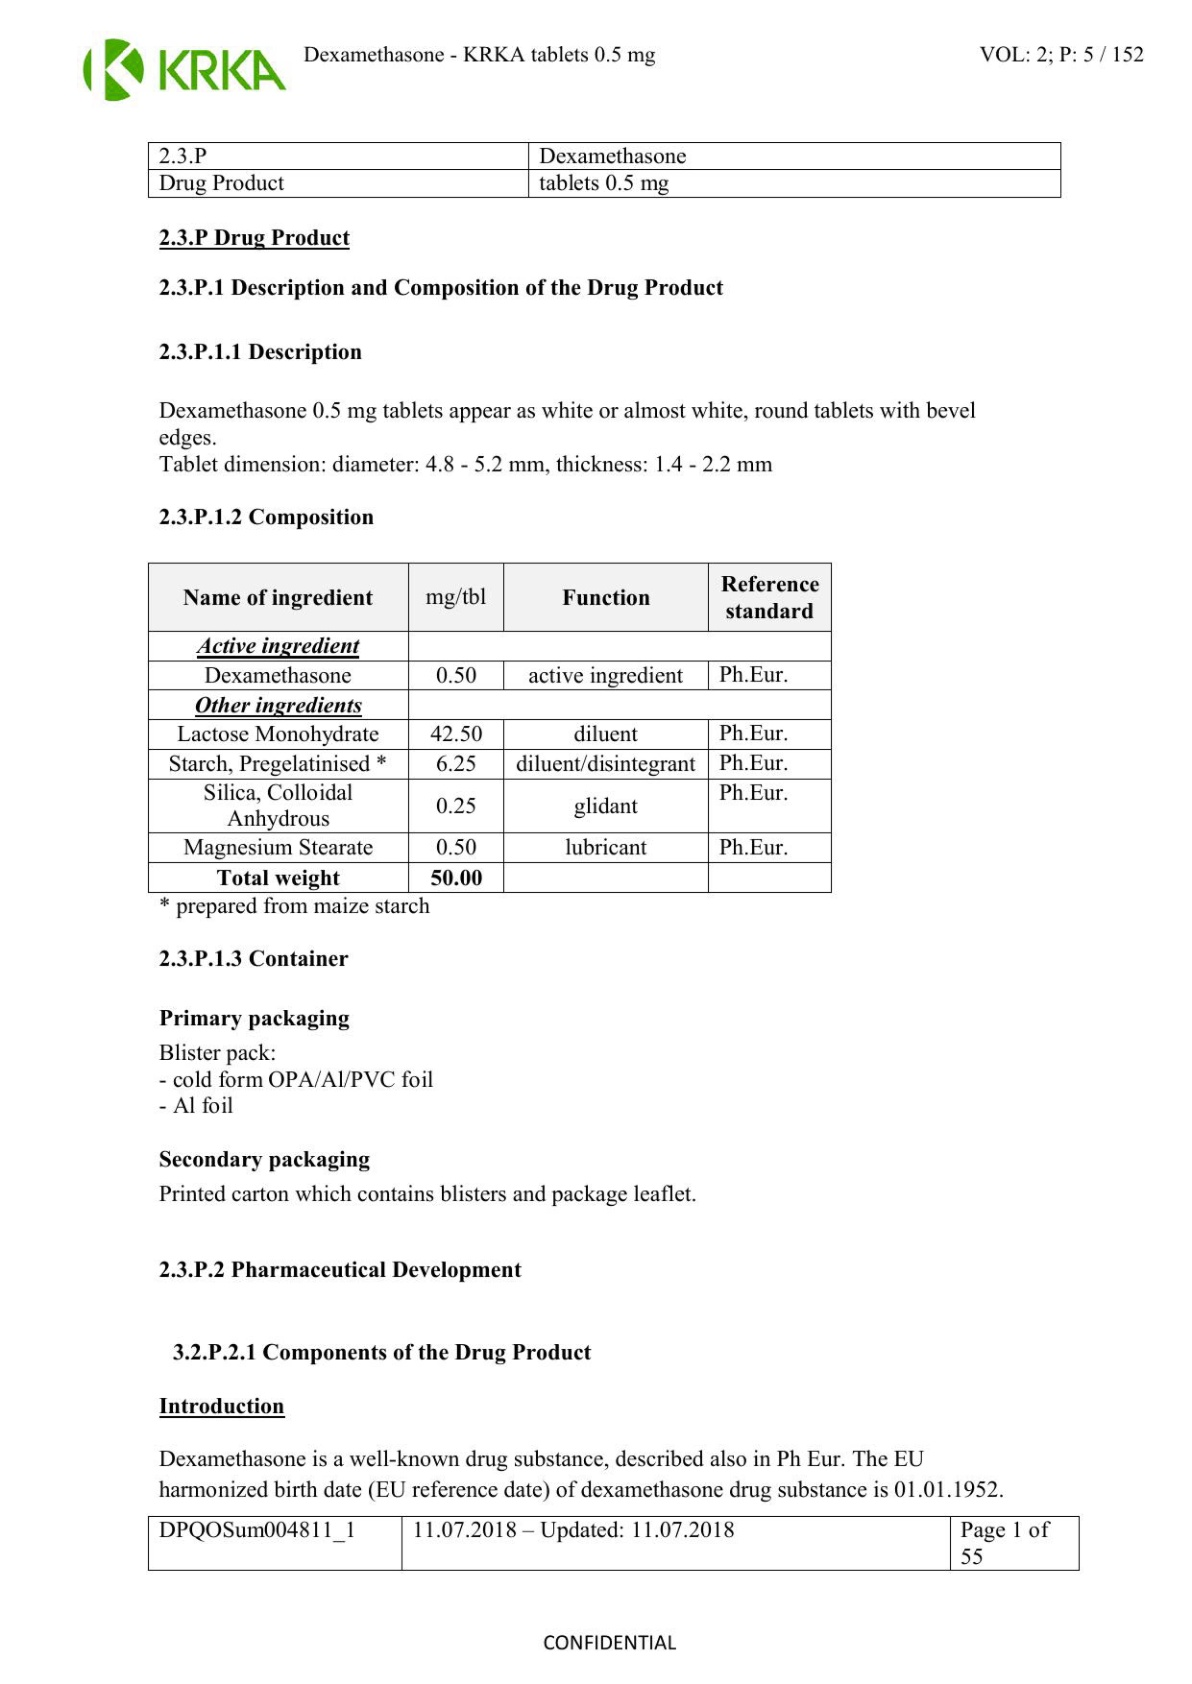full_lined: (147, 1514, 1081, 1572), (147, 141, 1062, 199)
merged_cells: (146, 560, 833, 894)
